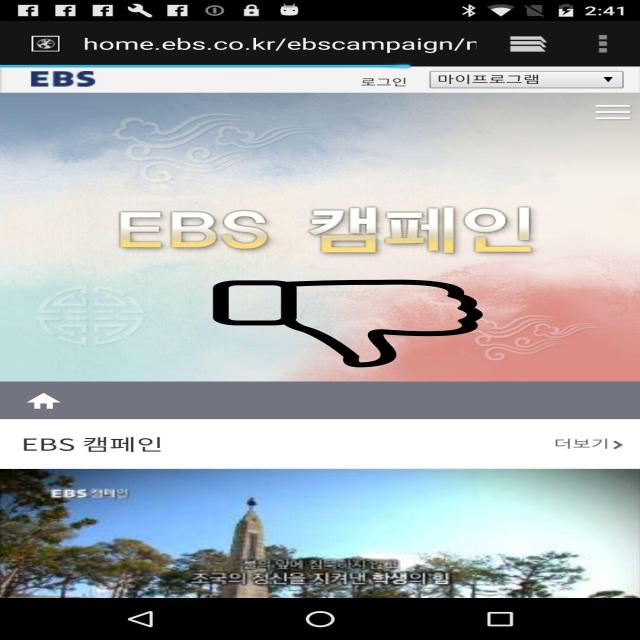obstruction: (209, 280, 487, 367)
